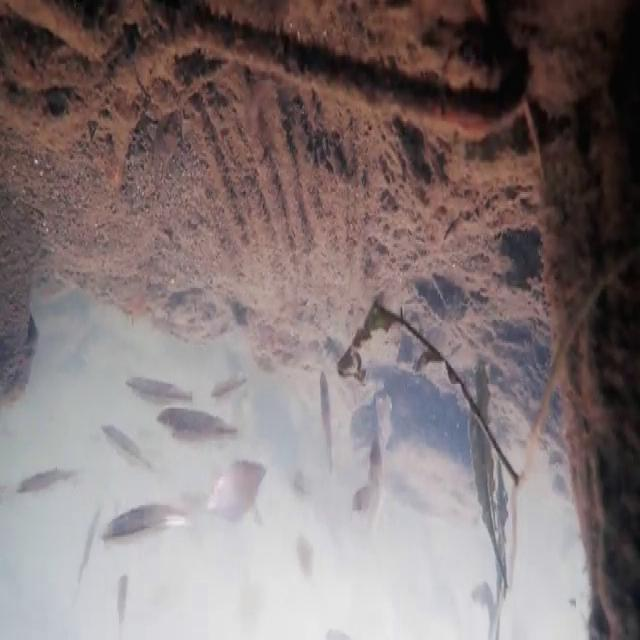Cakil Baligi: (101, 498, 191, 556), (206, 454, 266, 532), (158, 406, 234, 454), (122, 372, 190, 419), (103, 420, 146, 480), (316, 369, 338, 471), (211, 368, 247, 406)
